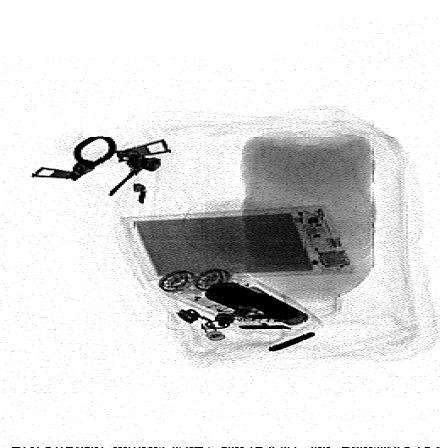Powerbank: (119, 205, 357, 282)
